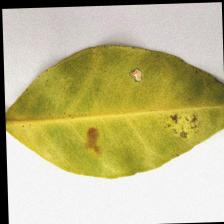canker: (76, 60, 204, 156)
